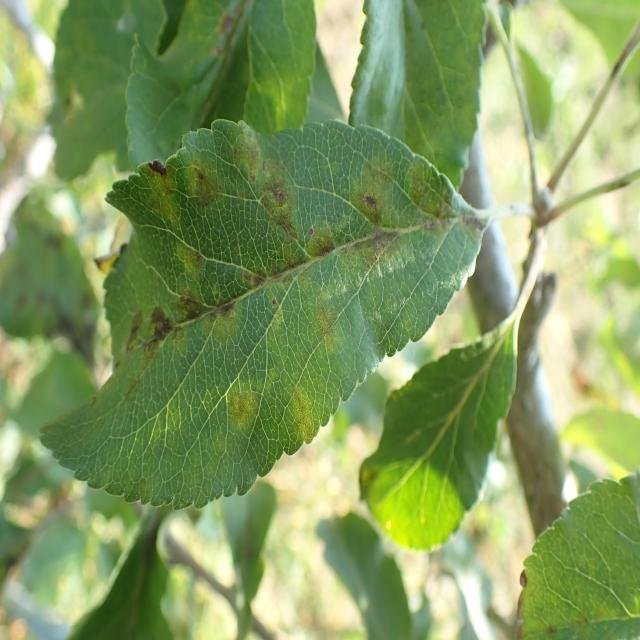scab: (64, 122, 485, 482)
